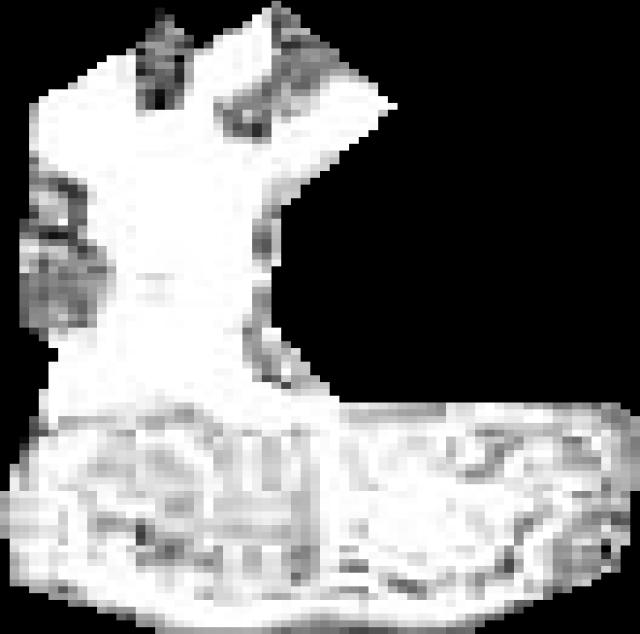tumor_moderate_chance: (0, 1, 640, 634)
